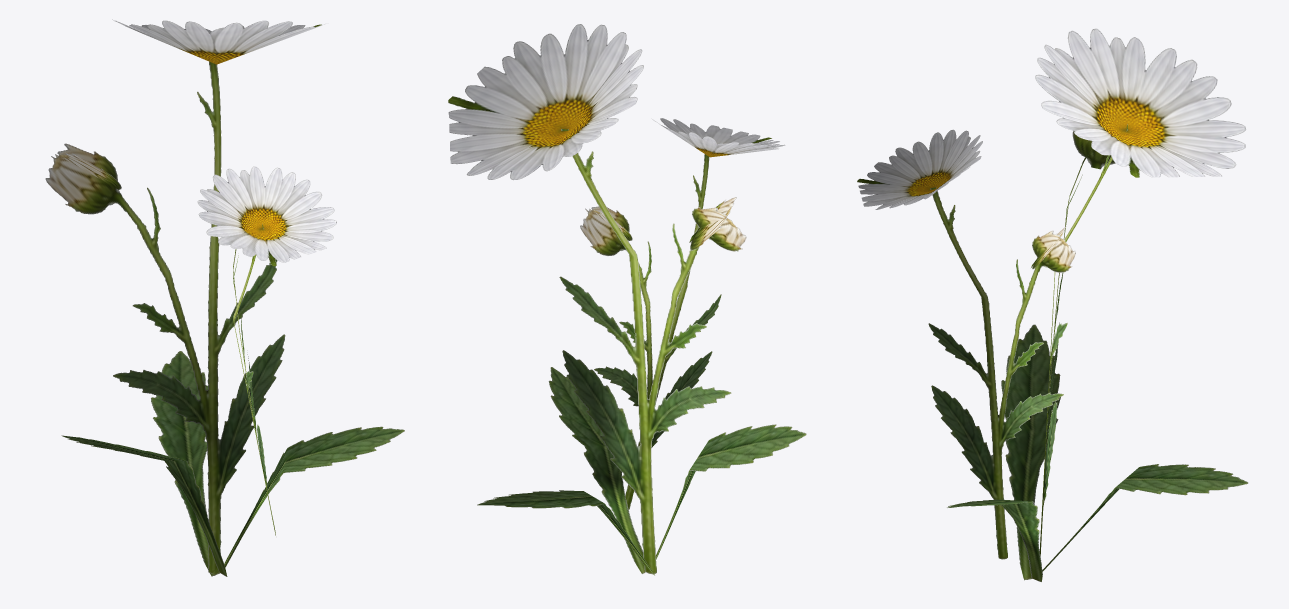
File: SM_Flower_02.fbx
The picture shows the model from 3 angles, left to right: view 1: azimuth 30°, elevation 25°; view 2: azimuth 150°, elevation 25°; view 3: azimuth 270°, elevation 25°; orthographic projection.
Visible parts, largest first — view 1: SM_Flower_02; view 2: SM_Flower_02; view 3: SM_Flower_02.
Boxes of the visible parts, box(x1,y1,x2,y2) form: SM_Flower_02: box(45, 19, 404, 576); SM_Flower_02: box(448, 24, 806, 575); SM_Flower_02: box(857, 28, 1248, 581).
Size of the model in its own units: 0.4932 by 0.8138 by 0.5369.
